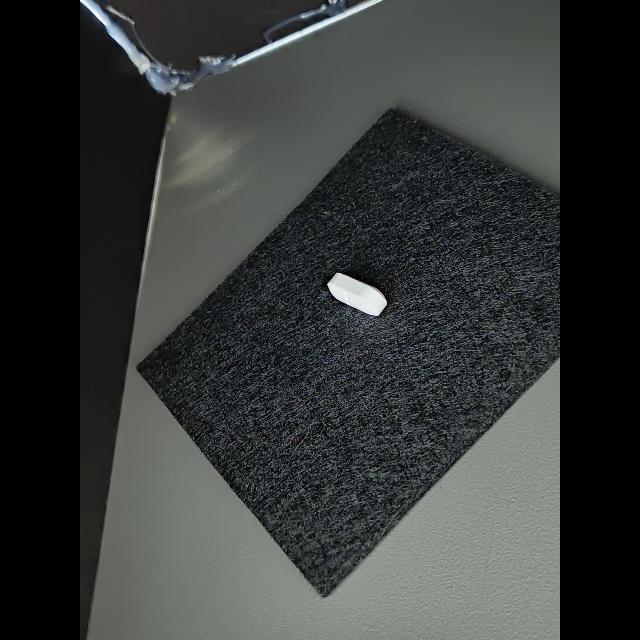Intact Pill: (327, 273, 387, 316)
